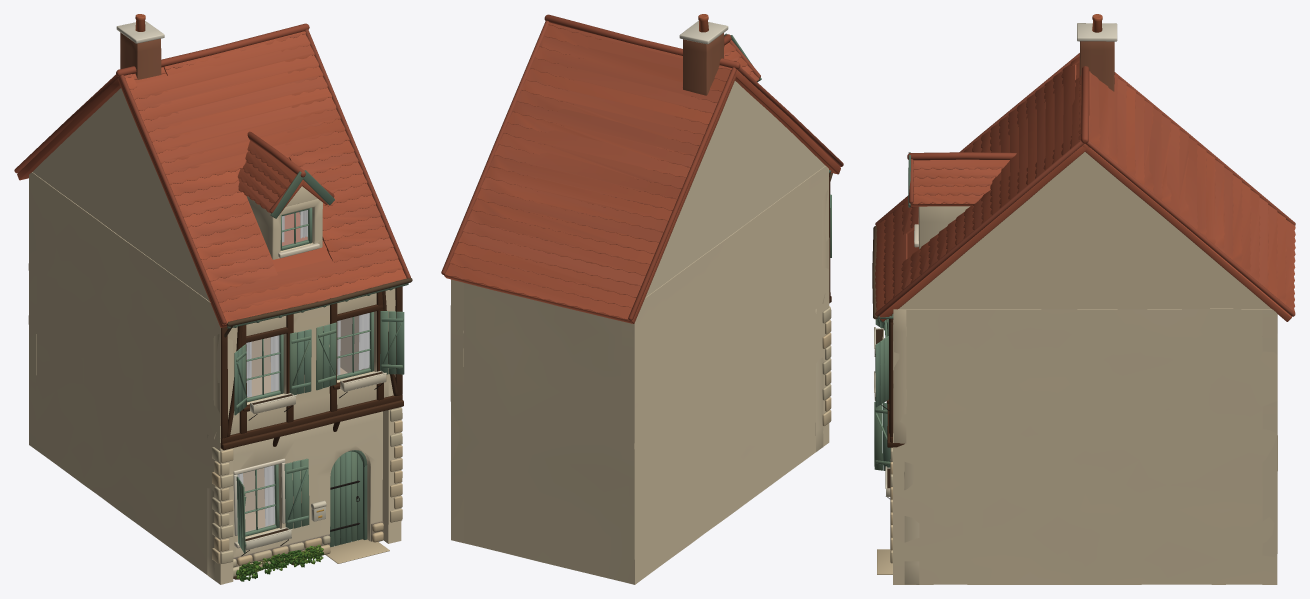
The model's file is Opposite_Opposite2_4.glb.
3 views of the same model, side by side, from view 1: azimuth 30°, elevation 25°; view 2: azimuth 150°, elevation 25°; view 3: azimuth 270°, elevation 25° (orthographic).
Visible parts, largest first — view 1: Sammel Putz, Sammel Stein, Sammel Lack, Sammel Holz, Glas, Sammel Putz innen, Vorhang Leinen, Sammel Ziegel, Sammel Metall, Sammel Pflanze; view 2: Sammel Putz, Sammel Stein, Sammel Ziegel; view 3: Sammel Putz, Sammel Stein, Sammel Lack, Sammel Ziegel, Sammel Holz.
Part boxes in pixels (x1=…): Sammel Putz: x1=28, y1=14, x2=401, y2=584; Sammel Stein: x1=14, y1=23, x2=410, y2=576; Sammel Lack: x1=227, y1=170, x2=408, y2=553; Sammel Holz: x1=220, y1=286, x2=403, y2=450; Glas: x1=238, y1=210, x2=369, y2=531; Sammel Putz innen: x1=243, y1=315, x2=364, y2=531; Vorhang Leinen: x1=237, y1=210, x2=369, y2=526; Sammel Ziegel: x1=120, y1=32, x2=161, y2=79; Sammel Metall: x1=224, y1=278, x2=412, y2=556; Sammel Pflanze: x1=236, y1=544, x2=323, y2=581; Sammel Putz: x1=450, y1=14, x2=829, y2=584; Sammel Stein: x1=441, y1=14, x2=843, y2=425; Sammel Ziegel: x1=683, y1=33, x2=724, y2=95; Sammel Putz: x1=876, y1=14, x2=1277, y2=584; Sammel Stein: x1=875, y1=53, x2=1295, y2=574; Sammel Lack: x1=874, y1=152, x2=910, y2=496; Sammel Ziegel: x1=1079, y1=41, x2=1114, y2=91; Sammel Holz: x1=886, y1=315, x2=904, y2=447.
Bounding box in the file's own units: 4.76 × 11.72 × 9.1.
